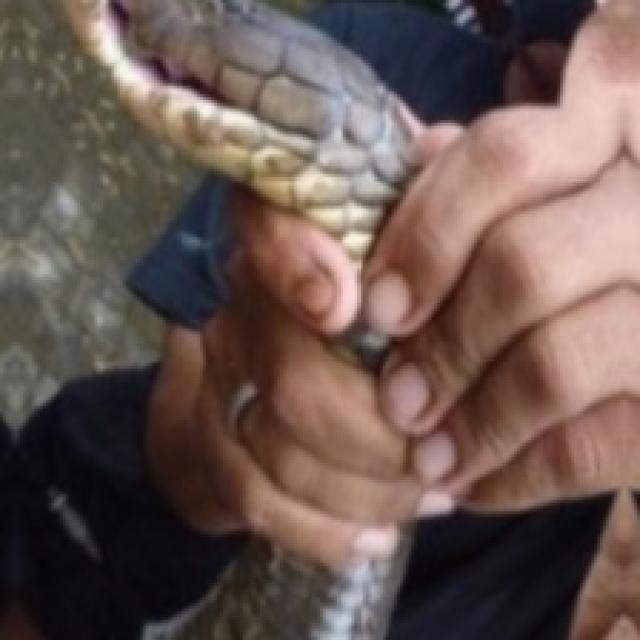king cobra: (66, 0, 423, 637)
